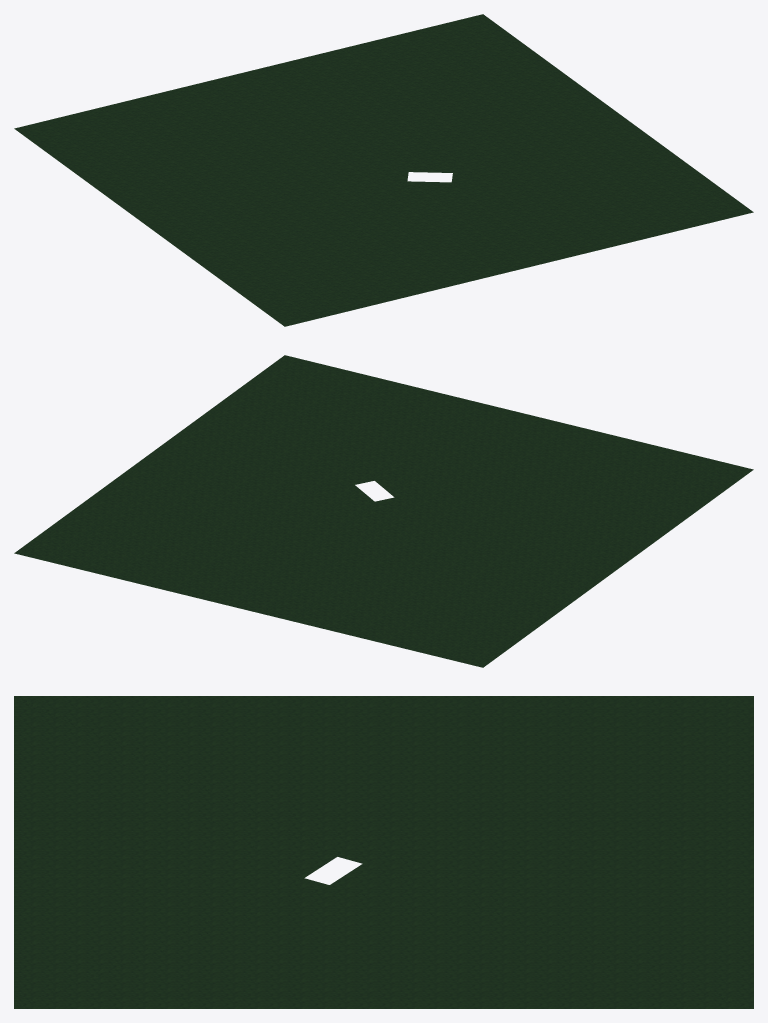
The model's file is lawn.glb.
3 renders of one model, top to bottom at view 1: azimuth 30°, elevation 25°; view 2: azimuth 150°, elevation 25°; view 3: azimuth 270°, elevation 25°, orthographic. The views are drawn at different scales.
Parts seen in each view (by area): view 1: lawn_MeshStandardMaterial; view 2: lawn_MeshStandardMaterial; view 3: lawn_MeshStandardMaterial.
Boxes of the visible parts, <box> form: lawn_MeshStandardMaterial: <box>14,14,753,326</box>; lawn_MeshStandardMaterial: <box>14,355,753,667</box>; lawn_MeshStandardMaterial: <box>14,696,753,1008</box>.
Bounding box in the file's own units: 220 × 0 × 220.
1 material, 1 textured.
